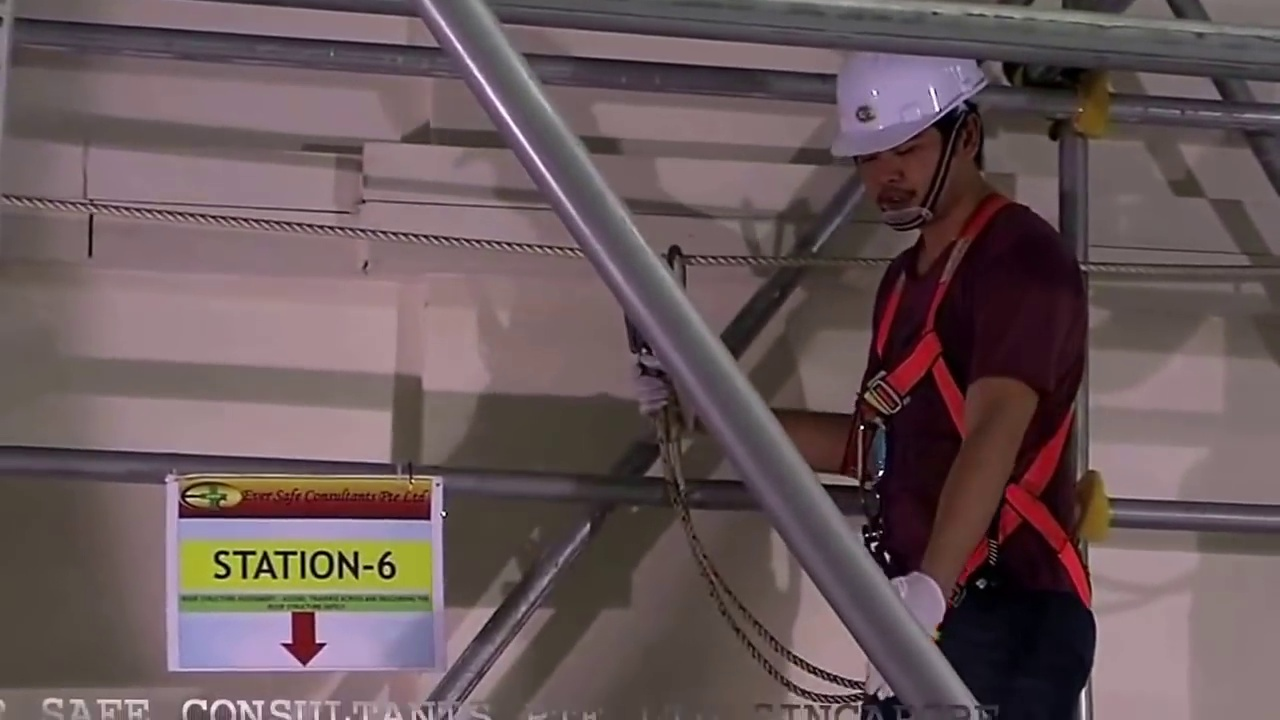harness: (862, 239, 995, 623)
helmet: (833, 49, 989, 130)
leash: (665, 480, 786, 698)
